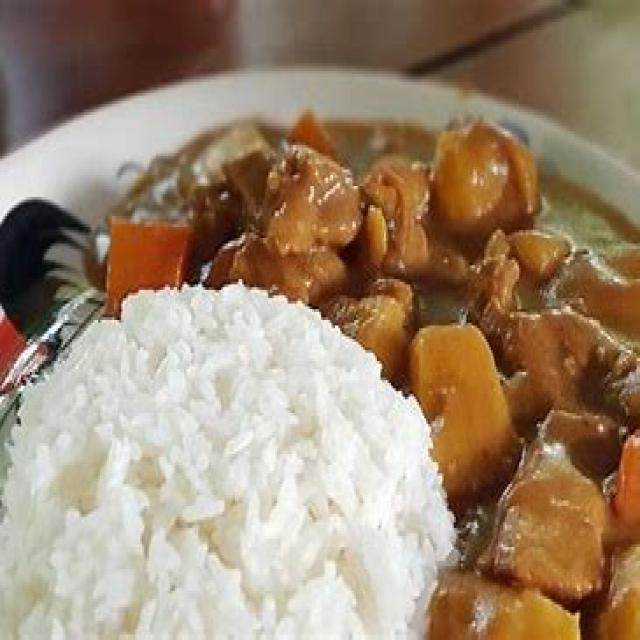cac loai rau cu: (403, 317, 526, 503), (415, 112, 557, 228), (516, 291, 626, 434), (209, 222, 354, 327), (424, 555, 587, 640), (97, 205, 195, 322), (329, 280, 425, 388), (215, 155, 292, 235), (582, 536, 640, 640), (606, 425, 640, 549)
com: (0, 285, 464, 640)
thit bo: (493, 461, 612, 602), (259, 133, 365, 254), (468, 229, 529, 354)
